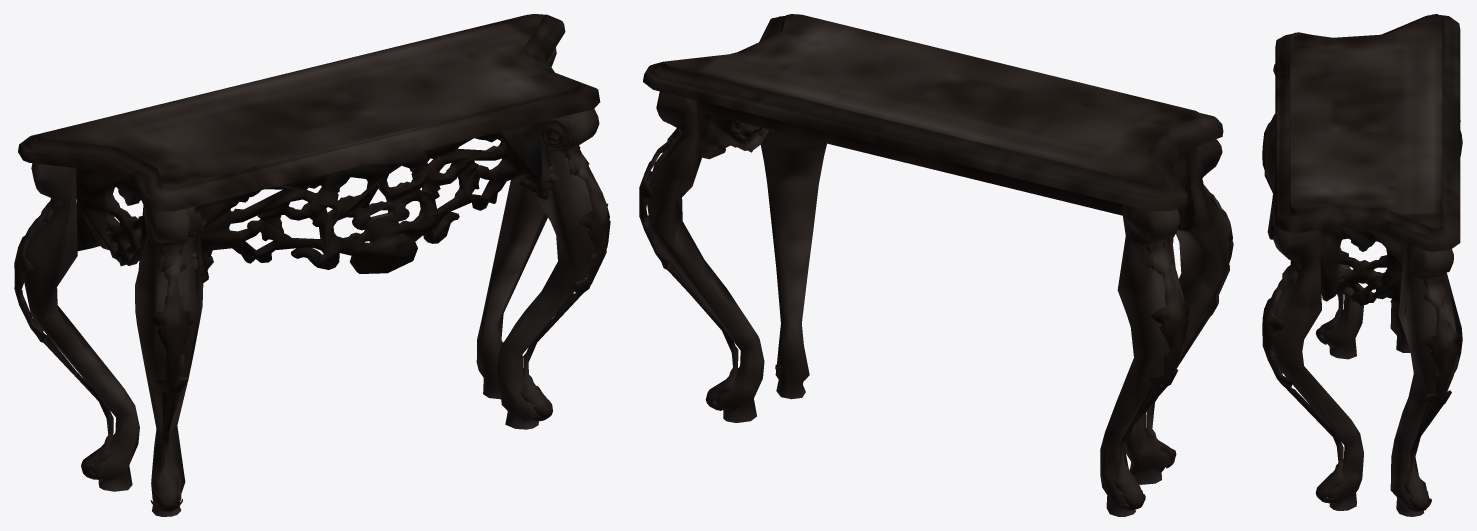
The picture shows the model from 3 angles, left to right: view 1: azimuth 30°, elevation 25°; view 2: azimuth 150°, elevation 25°; view 3: azimuth 270°, elevation 25°; orthographic projection. The views are drawn at different scales.
Parts seen in each view (by area): view 1: ClassicConsole_01; view 2: ClassicConsole_01; view 3: ClassicConsole_01.
Part boxes in pixels (x1,y1,x2,y2): ClassicConsole_01: (14, 14, 610, 516); ClassicConsole_01: (639, 14, 1233, 516); ClassicConsole_01: (1262, 14, 1462, 516).
Bounding box in the file's own units: 1.54 × 0.9491 × 0.5602.
Materials: 1 (1 with a texture image).
